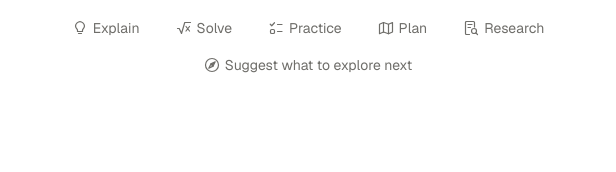
Test: leaves the spinner after a manual request times out
Click the button "Suggest what to explore next". click: (308, 65)
box: [194,51,422,79]
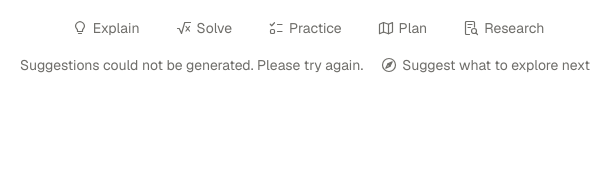
Expected: the button "Suggest what to explore next" is enabled, [371,51,600,79]
Expected: the text "Finding what to explore next..." is shown, [16,54,367,76]
Expected: the message shows "Suggestions could not be generated", [20,56,363,74]
